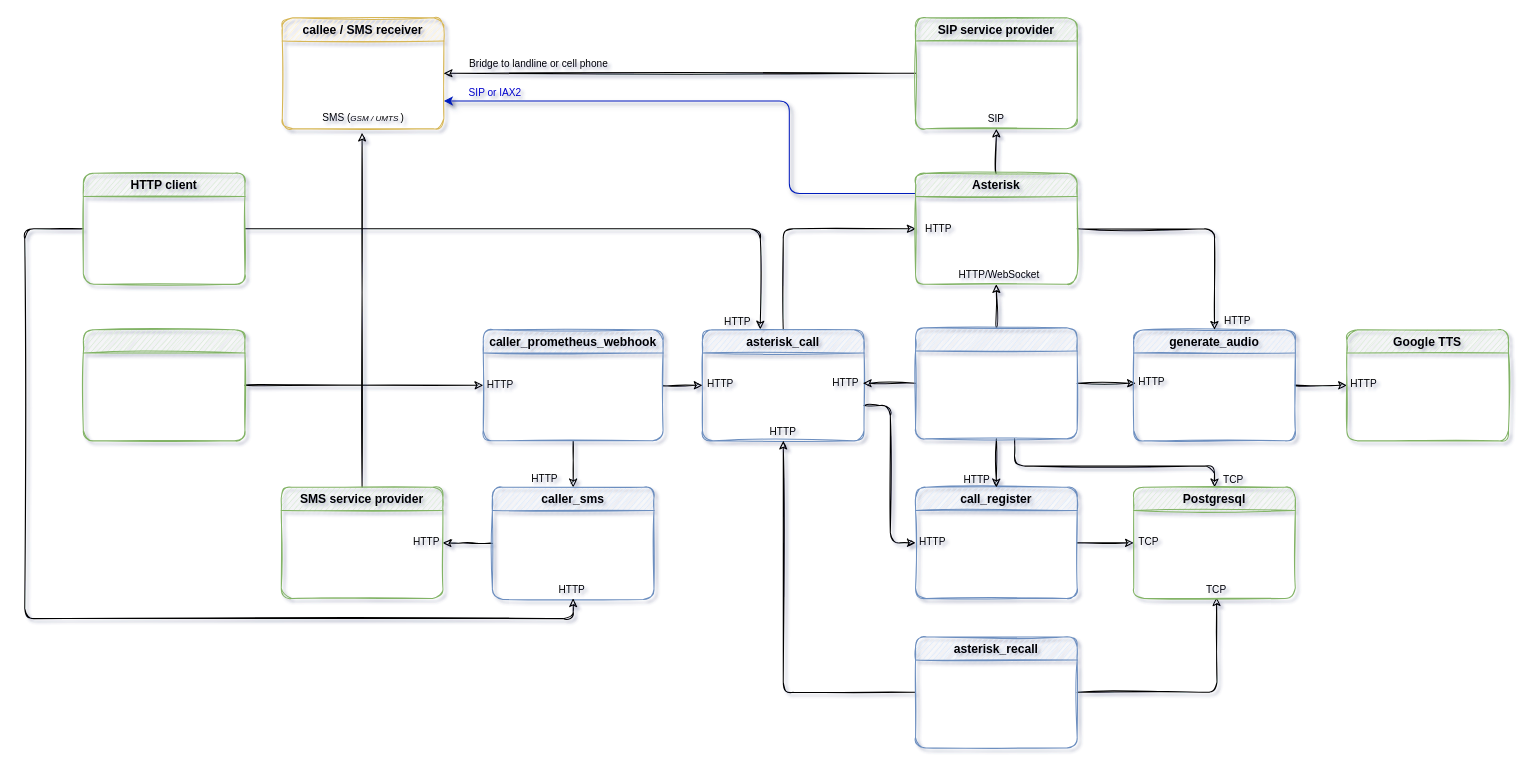
The diagram is 1532 pixels wide and 772 high, and some of its shapes have lost their labels. Here are the shapes that lost their labels. From the top down, the centre of each, then its label:
the point at 163,385: Prometheus Alertmanager
the point at 996,383: asterisk_ws_monitor
